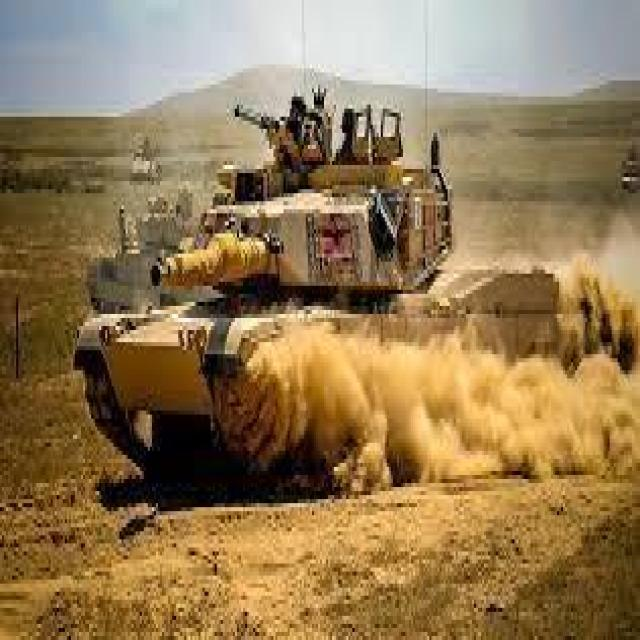Tanks: (72, 90, 582, 453)
